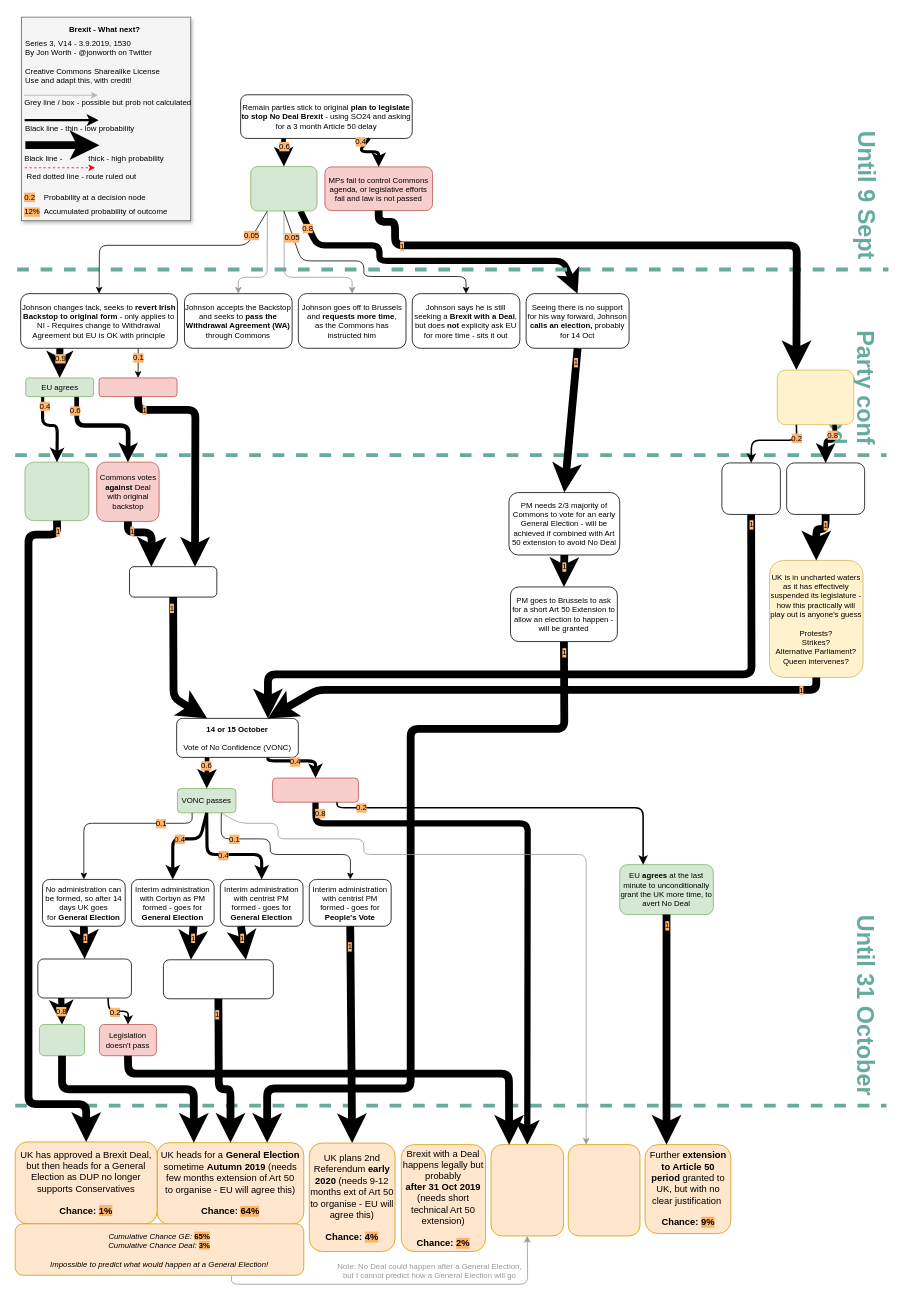
The diagram is 905 pixels wide and 1304 high, and some of its shapes have lost their labels. The centre of each missing label's shape, as x and y in pixels:
Commons votes in favour of Deal with original backstop: [56,491]
Commons votes to Revoke Article 50 Chance: -%: [603,1190]
DUP furious at Johnson's approach: [173,581]
EU doesn't agree: [137,387]
Legislation passes: [62,1040]
Legislative efforts succeed 4 Sept and law is passed: [283,188]
Maugham et al case succeeds to stop prorogation: [750,488]
Might need emergency legislation to prevent No Deal before 31 Oct - will pass: [218,979]
Might need emergency legislation to prevent No Deal in 14 day period: [84,978]
No Deal Brexit looms on 31 October 2019, Chance: 20%: [527,1190]
Prorogation succeeds and Commons does not sit until 14 October: [825,488]
UK heads for major constitutional crisis: [815,397]
VONC doesn't pass: [315,789]
